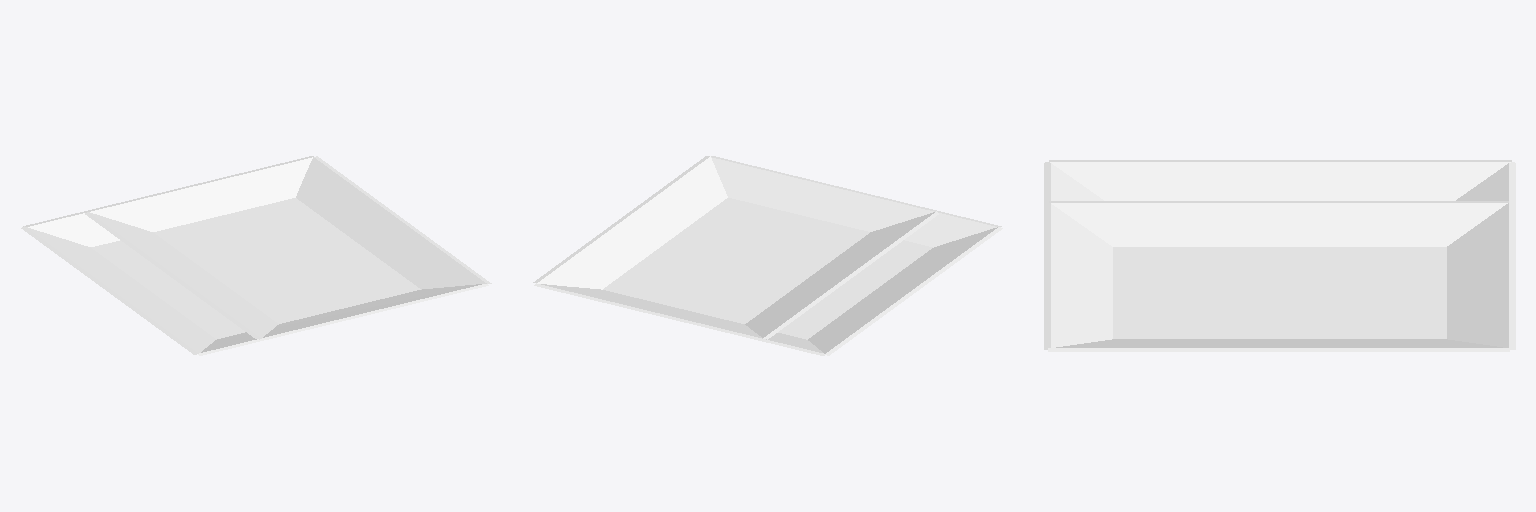
URDF robot description (tray):
<robot name="tray">
  <link name="tray_base_link">
    <contact>
      <lateral_friction value="0.5"/>
      <rolling_friction value="0.0"/>
      <contact_cfm value="0.0"/>
      <contact_erp value="1.0"/>
    </contact>
    <inertial>
      <origin rpy="0 0 0" xyz="0 0 0"/>
      <mass value="0"/>
      <inertia ixx="0" ixy="0" ixz="0" iyy="0" iyz="0" izz="0"/>
    </inertial>
    <visual>
      <origin rpy="0 0 0" xyz="0 0 0"/>
      <geometry>
        <mesh filename="tray_textured_dark.obj" scale="0.5 0.5 0.1"/>
      </geometry>
      <material name="tray_material">
        <color rgba="1 1 1 1"/>
      </material>
    </visual>
    <collision>
      <origin rpy="0 0 0" xyz="0 0 0"/>
      <geometry>
        <mesh filename="tray_textured_dark.obj" scale="0.5 0.5 0.1"/>
      </geometry>
    </collision>
  </link>
</robot>

--- Facts derived from the render (not from the file) ---
Views: 3 orthographic renders of the robot side by side, from view 1: azimuth 30°, elevation 25°; view 2: azimuth 150°, elevation 25°; view 3: azimuth 270°, elevation 25°.
Robot: tray — 1 links, 0 joints (none); root link tray_base_link; default pose: every joint at zero.
Visible links, largest first — view 1: tray_base_link; view 2: tray_base_link; view 3: tray_base_link.
Boxes of the visible links, bbox=[...] form: tray_base_link: bbox=[21, 156, 491, 355]; tray_base_link: bbox=[533, 156, 1002, 355]; tray_base_link: bbox=[1044, 160, 1515, 351].
Bounding box of the posed robot: 0.5938 × 0.6155 × 0.0277 m (x, y, z).
1 mesh visuals loaded from 1 distinct referenced files (1 OBJ).